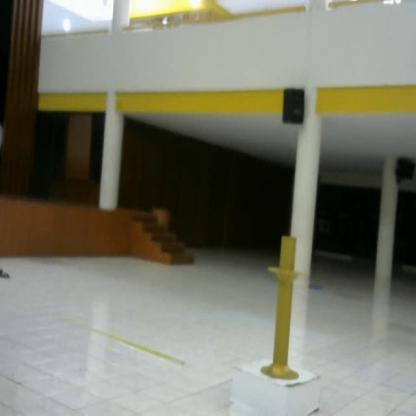pole: (257, 233, 311, 384)
